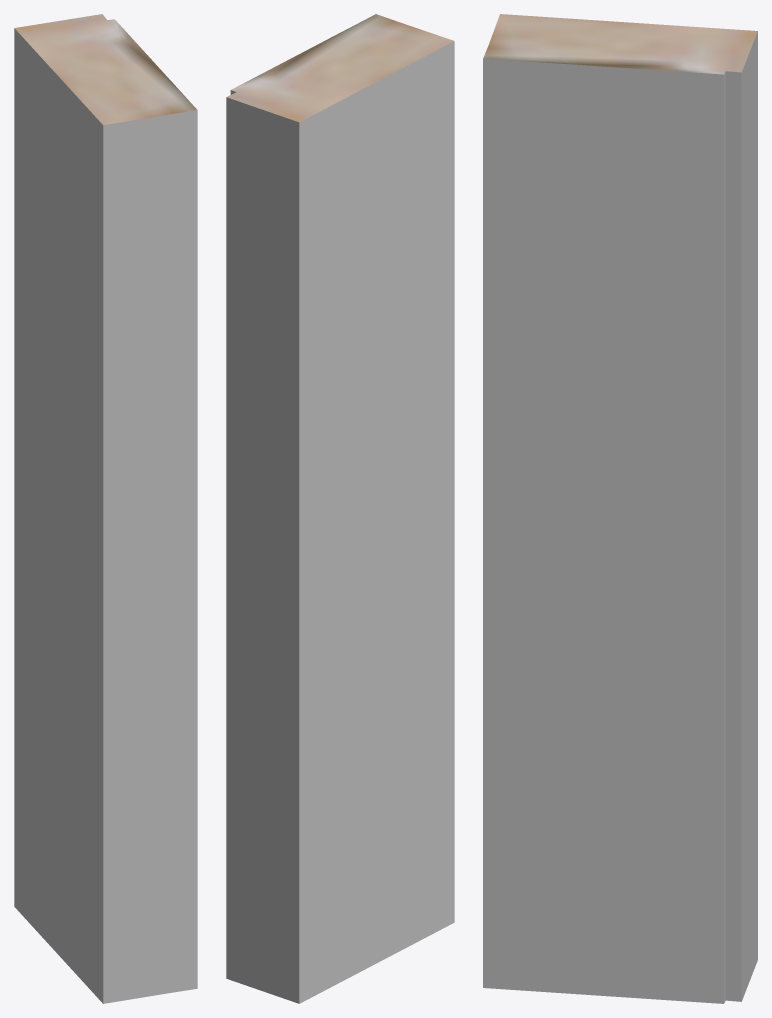
The model's file is DEBW_001000gcR04.gltf.
3 renders of one model, left to right at view 1: azimuth 30°, elevation 25°; view 2: azimuth 150°, elevation 25°; view 3: azimuth 270°, elevation 25°, orthographic. The views are drawn at different scales.
Visible parts, largest first — view 1: Z_UP; view 2: Z_UP; view 3: Z_UP.
Part boxes in pixels (<box>): Z_UP: <box>14,14,197,1003</box>; Z_UP: <box>226,14,454,1003</box>; Z_UP: <box>483,14,757,1003</box>.
Size of the model in its own units: 1.78 by 12.73 by 3.41.
Materials: 2 (1 with a texture image).
